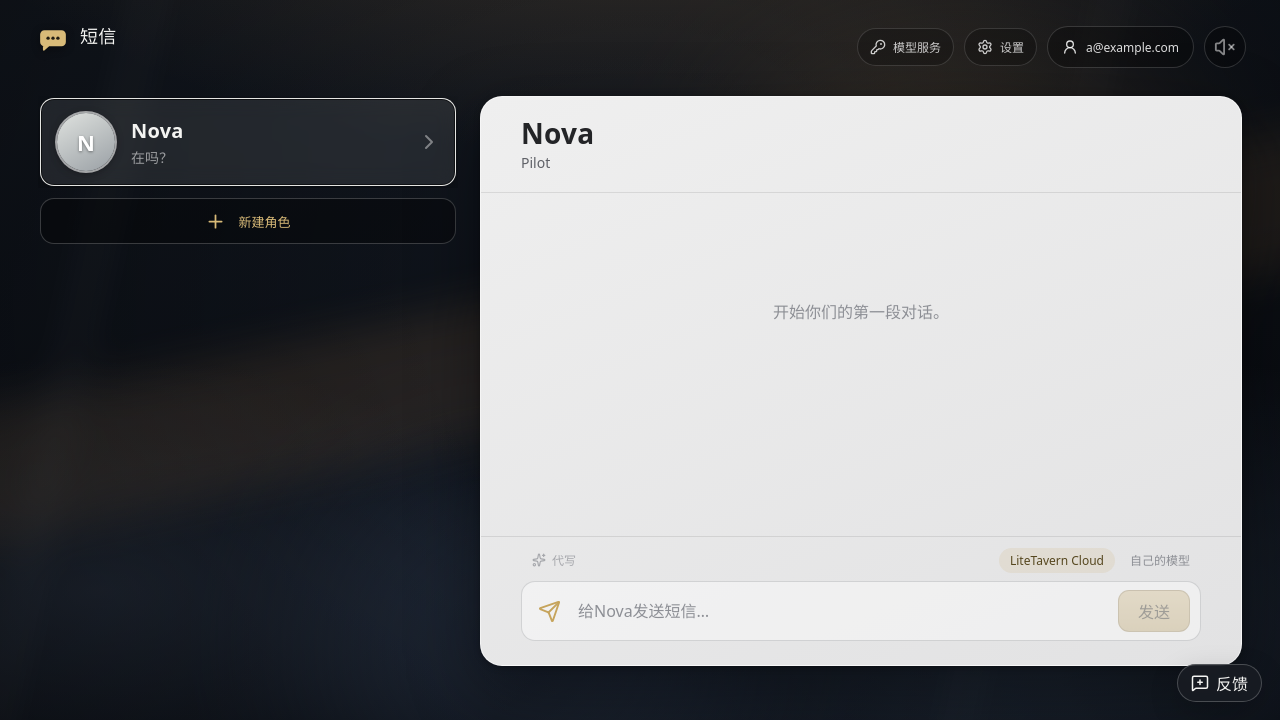
Test: keeps the reply when the suggestion request fails
The width and height of the screenshot is (1280, 720).
In the text box with placeholder "Nova": point(841, 611) [576, 597, 1106, 625], type "你还在医院吗？"
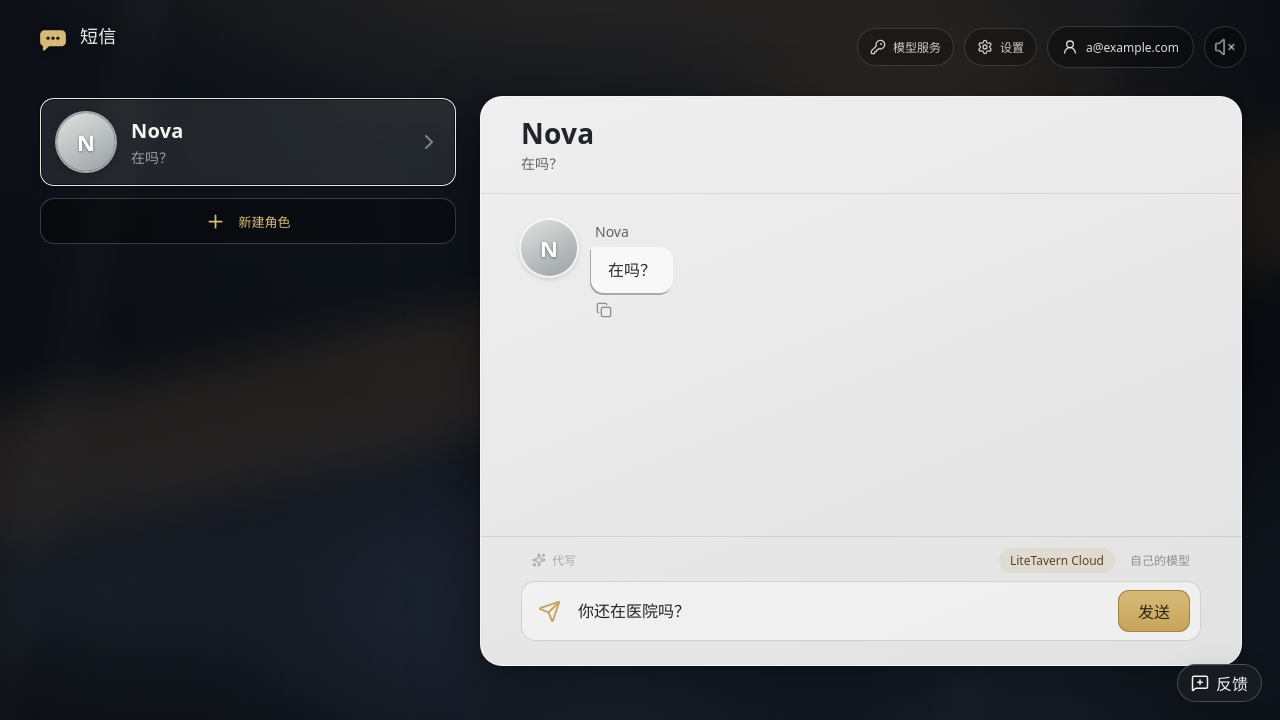
Now the button "发送" is enabled
Click the button "发送": point(1154, 611) [1118, 590, 1190, 632]
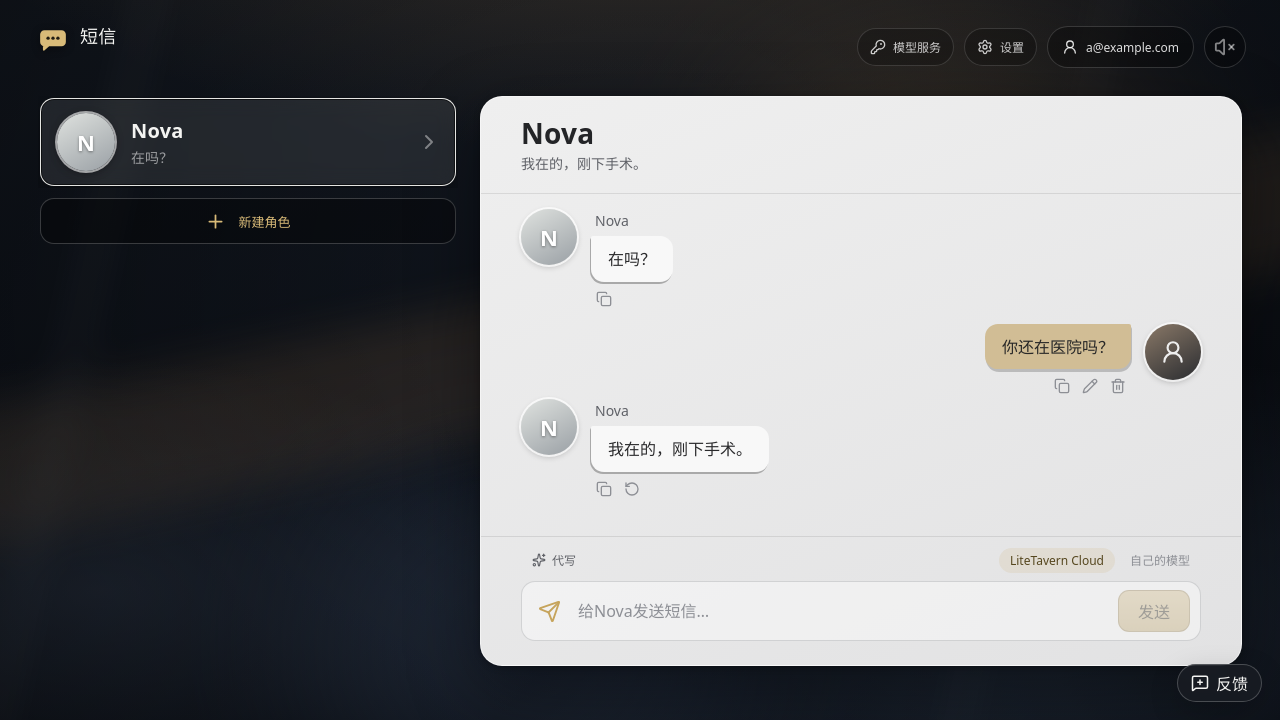
Now the text "我在的，刚下手术。" below "你还在医院吗？" is shown, box [608, 438, 752, 460]
